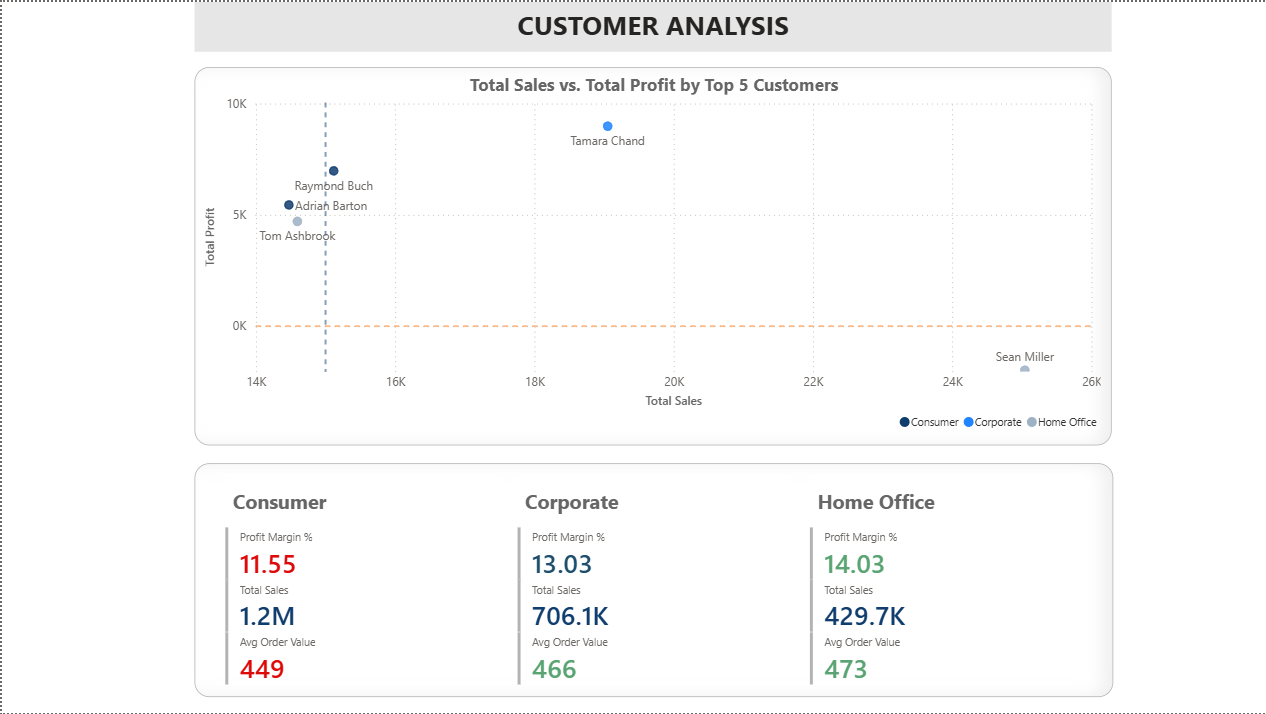

This screenshot's page, from the dashboard's own definition file:
{"tool":"powerbi","page":{"name":"Customers","canvas":[1280,720],"ordinal":3},"visuals":[{"type":"scatterChart","title":"Total Sales vs. Total Profit by Top 5 Customers","fields":{"X":["sales_data.Total Sales"],"Y":["sales_data.Total Profit"],"Category":["sales_data.Customer Name"],"Series":["sales_data.Segment"]},"box":[194.9,65.8,929.1,383.5],"z":0},{"type":"cardVisual","fields":{"Data":["sales_data.Profit Margin %","sales_data.Total Sales","sales_data.Avg Order Value"],"Rows":["sales_data.Segment"]},"box":[194.9,467.1,930.4,236.7],"z":1000},{"type":"textbox","box":[194.9,0,929.1,50.6],"z":2000}]}

Visuals, with their boxes in screenshot pixels (x1, y1, x2, y2), scaled from the page's 1280x720 canvas onto the 1266x714 screenshot:
"Total Sales vs. Total Profit by Top 5 Customers" scatterChart: [x1=193, y1=65, x2=1112, y2=446]
cardVisual - sales_data.Profit Margin % x sales_data.Total Sales: [x1=193, y1=463, x2=1113, y2=698]
textbox: [x1=193, y1=0, x2=1112, y2=50]
